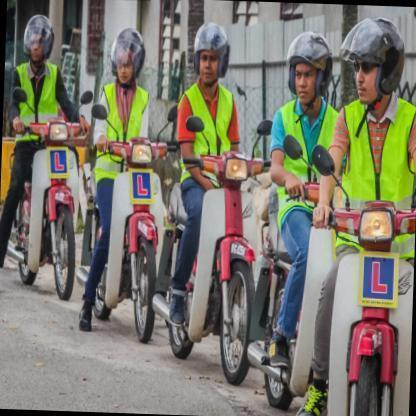no-helmet: (342, 18, 410, 99), (287, 32, 334, 96), (190, 25, 232, 85), (110, 24, 146, 89), (24, 13, 56, 65)
vest: (340, 97, 416, 217), (277, 89, 338, 204), (183, 78, 237, 162), (97, 83, 154, 147), (15, 54, 60, 128)
